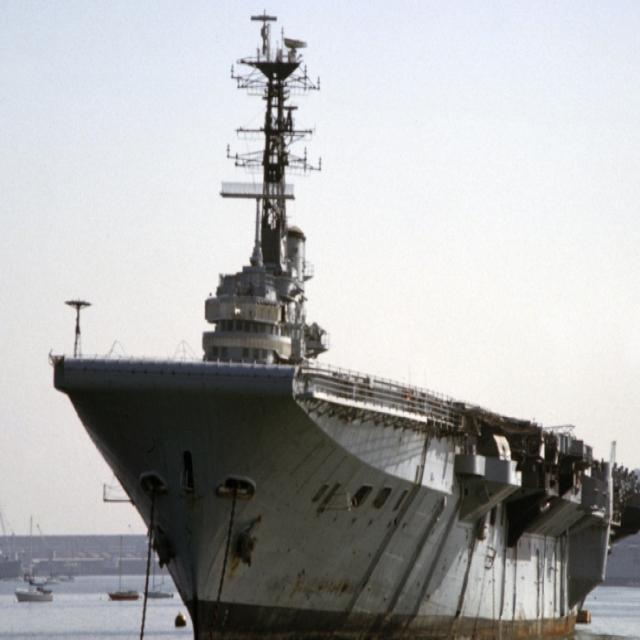Portanaves: (52, 8, 635, 640)
